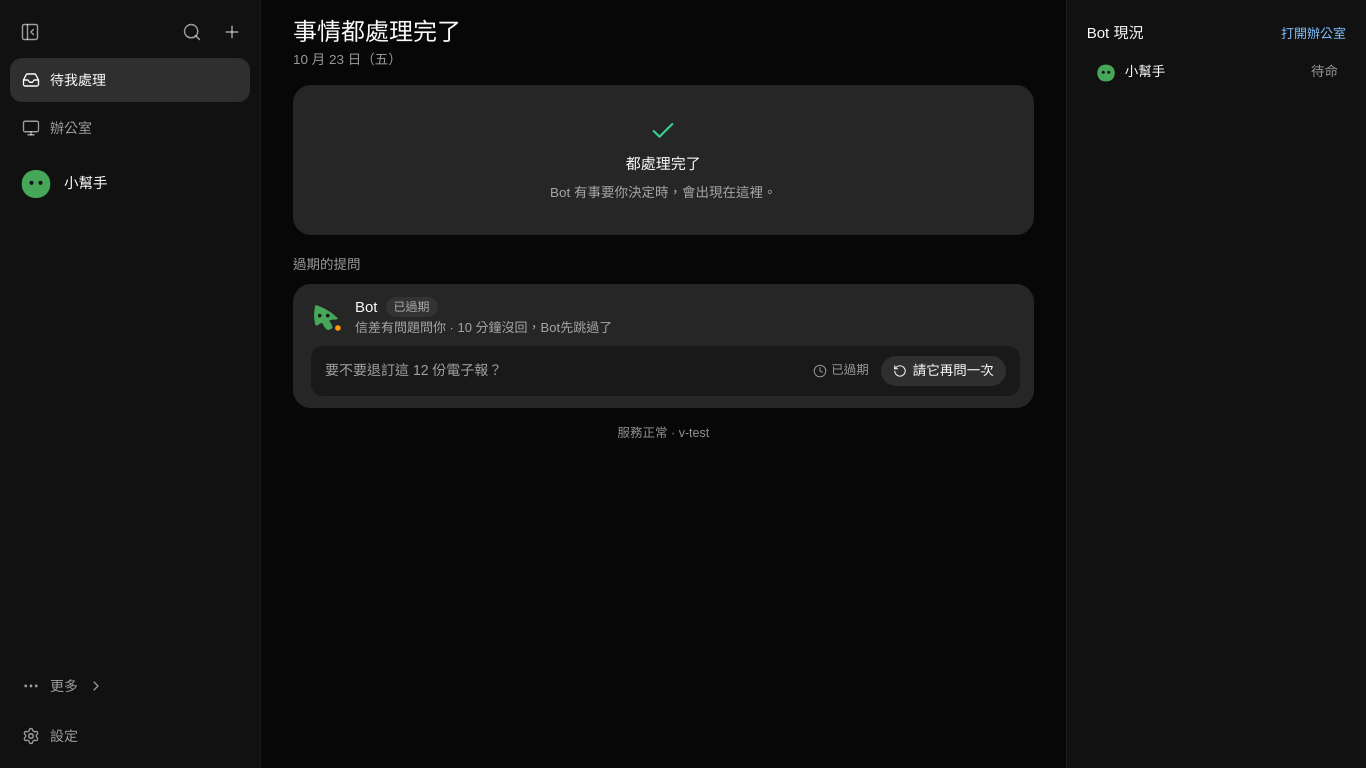
Test: 過期的提問可以請它再問一次
Check: the element with test id "inbox-expired" shows "要不要退訂這 12 份電子報？", box left=325, top=362, right=502, bottom=378
What coordinates should you click on to do the following:
click the button "請它再問一次"
I would click on:
 (943, 371)
Its box is left=881, top=356, right=1006, bottom=386.
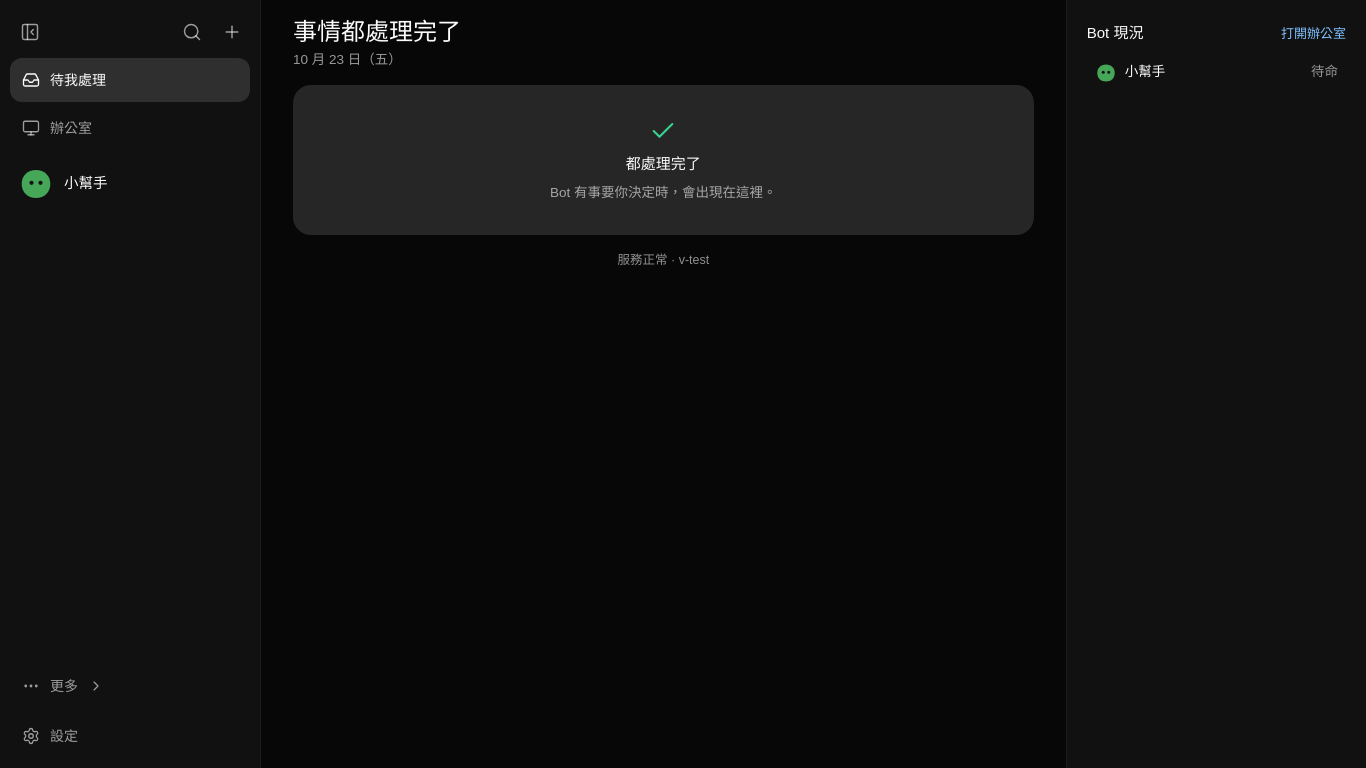
Check: the element with test id "inbox-expired" is gone
